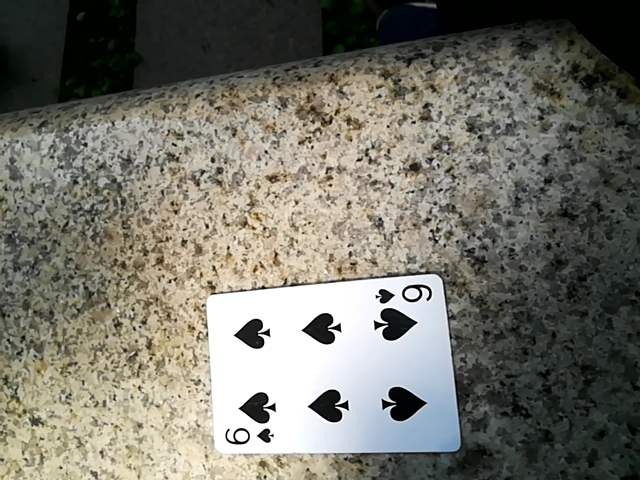ht 6: (192, 275, 462, 461)
